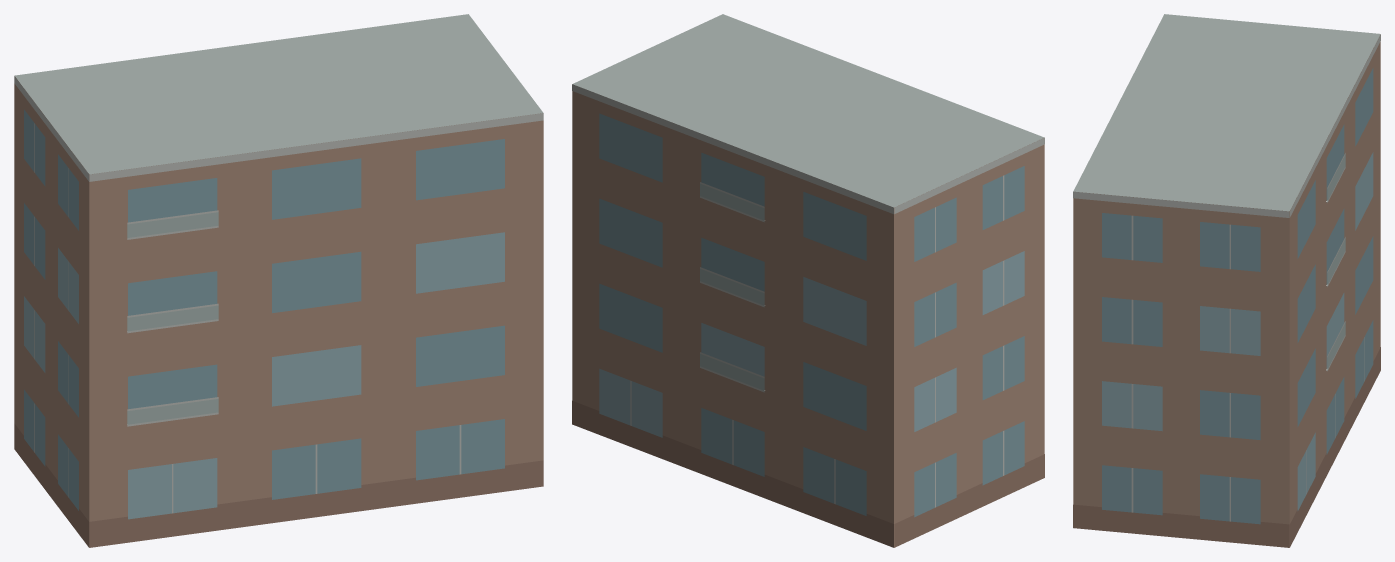
The model's file is residential-740b5552-4f6b-4fa2-b7bc-b39d923d351c.glb.
3 views of the same model, side by side, from view 1: azimuth 30°, elevation 25°; view 2: azimuth 150°, elevation 25°; view 3: azimuth 270°, elevation 25° (orthographic). The views are drawn at different scales.
Visible parts, largest first — view 1: residential-740b5552-4f6b-4fa2-b7bc-b39d923d351c.tmp; view 2: residential-740b5552-4f6b-4fa2-b7bc-b39d923d351c.tmp; view 3: residential-740b5552-4f6b-4fa2-b7bc-b39d923d351c.tmp.
Part boxes in pixels (bbox=[...]): residential-740b5552-4f6b-4fa2-b7bc-b39d923d351c.tmp: bbox=[14, 14, 543, 547]; residential-740b5552-4f6b-4fa2-b7bc-b39d923d351c.tmp: bbox=[572, 14, 1044, 547]; residential-740b5552-4f6b-4fa2-b7bc-b39d923d351c.tmp: bbox=[1073, 14, 1380, 547].
Size of the model in its own units: 15.36 by 12.2 by 10.12.
